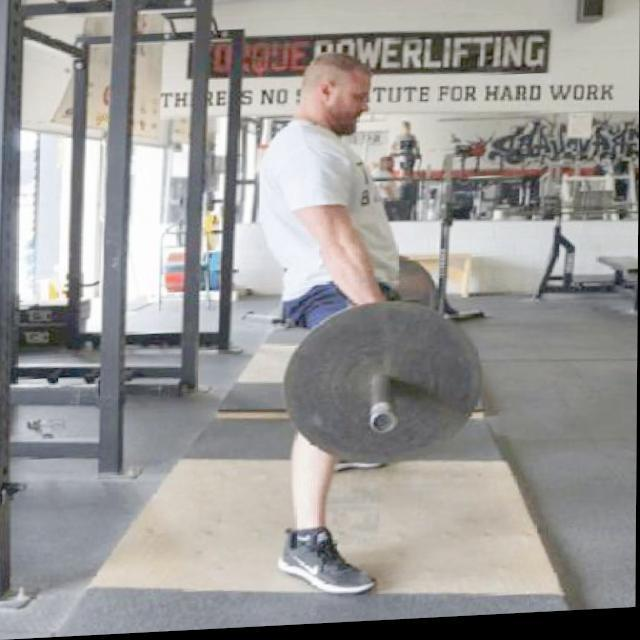barbell: (280, 299, 489, 483)
